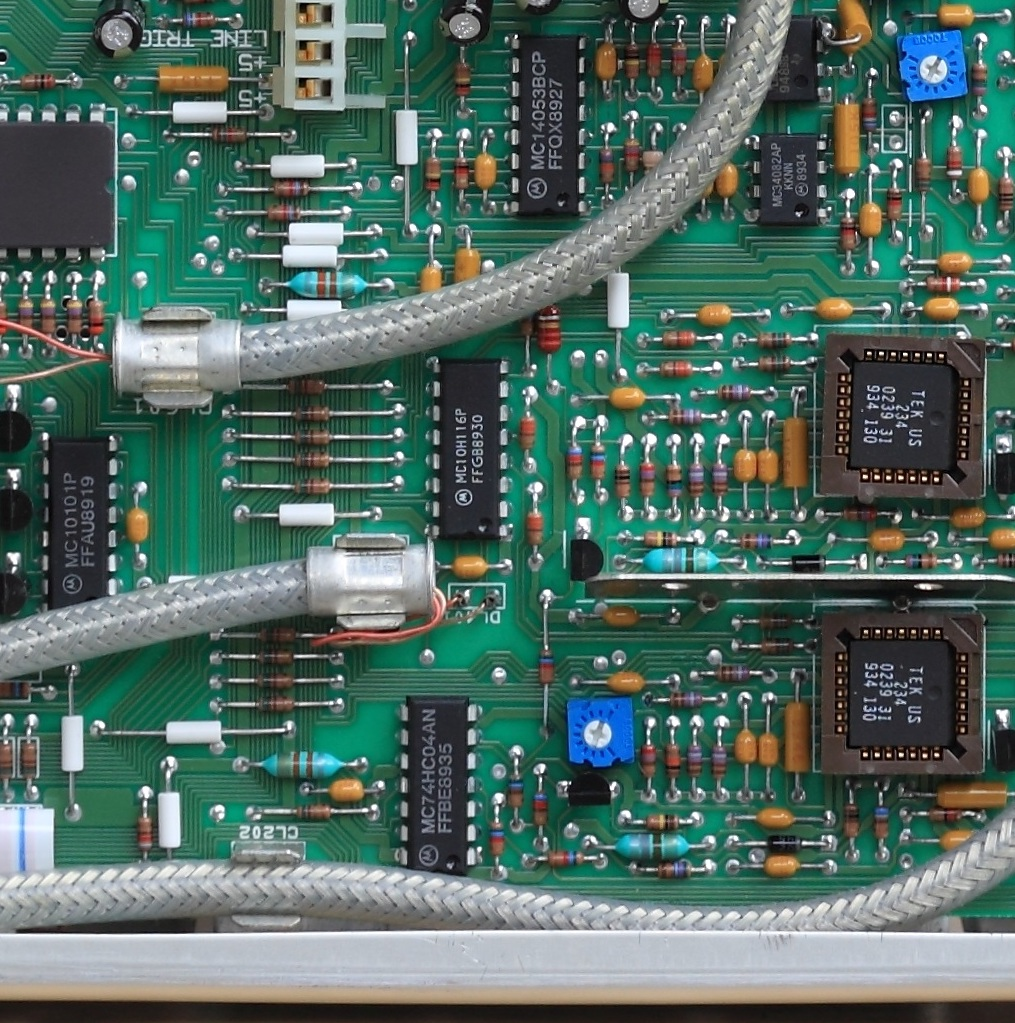Capacitor: (88, 1, 149, 61), (432, 1, 497, 47), (613, 1, 674, 26)
Diode: (782, 552, 835, 573), (762, 833, 809, 856)
Resistor: (254, 746, 351, 782), (279, 267, 376, 301), (635, 545, 728, 575), (610, 832, 696, 864), (534, 295, 567, 358), (85, 286, 108, 346), (281, 800, 340, 823), (63, 285, 85, 346), (449, 52, 475, 103), (267, 176, 317, 202), (259, 200, 310, 225), (528, 782, 552, 835), (286, 401, 338, 425), (420, 150, 445, 199), (250, 646, 303, 669), (537, 848, 590, 871), (13, 292, 38, 340), (522, 504, 547, 552), (752, 634, 801, 658), (203, 123, 254, 146), (249, 692, 300, 715), (132, 808, 155, 859), (919, 804, 969, 827), (248, 670, 300, 692), (285, 476, 339, 497), (610, 456, 634, 503), (650, 858, 699, 881), (732, 530, 781, 553), (15, 70, 66, 92), (280, 376, 331, 398), (254, 622, 305, 644), (918, 272, 969, 294), (504, 770, 528, 816), (288, 427, 340, 448), (707, 662, 754, 685), (858, 91, 881, 138), (17, 737, 41, 782), (835, 212, 859, 257), (661, 405, 710, 427), (869, 799, 891, 848), (562, 440, 586, 484), (839, 799, 863, 843), (655, 357, 699, 381), (636, 457, 659, 502), (662, 457, 685, 502), (586, 437, 608, 484), (38, 291, 59, 340), (595, 144, 617, 190), (621, 39, 642, 87), (835, 502, 883, 523), (642, 40, 664, 85), (944, 140, 966, 185), (286, 450, 338, 469), (175, 9, 222, 30), (915, 149, 936, 196), (486, 815, 506, 864), (634, 528, 685, 547), (535, 645, 557, 689), (638, 737, 659, 783), (661, 741, 684, 783), (668, 35, 688, 83), (883, 181, 905, 224), (686, 458, 706, 505), (641, 811, 685, 832), (683, 738, 706, 778), (517, 410, 537, 456), (621, 133, 641, 179), (970, 56, 989, 104), (754, 329, 797, 350), (450, 152, 470, 197), (995, 171, 1015, 216), (752, 611, 797, 631), (708, 740, 729, 782), (659, 328, 701, 349), (664, 690, 708, 710), (753, 353, 797, 373), (1, 679, 39, 701), (709, 459, 729, 500), (898, 551, 939, 571), (641, 145, 665, 179), (717, 383, 755, 403), (1, 736, 15, 784)
